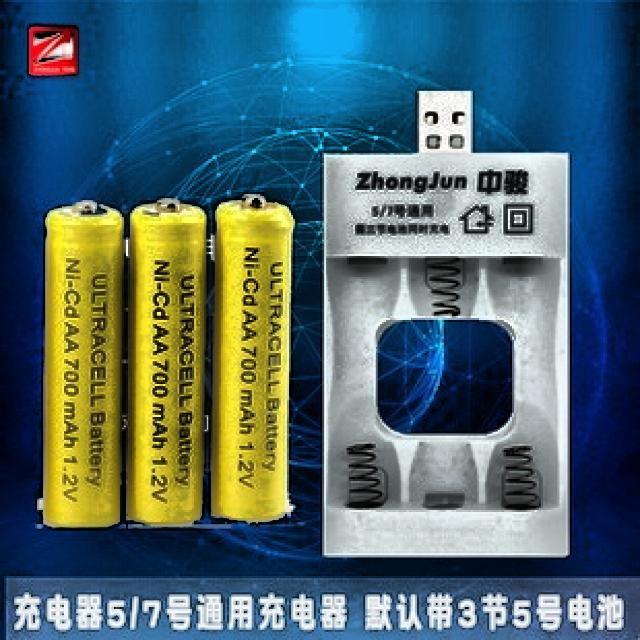Non-Valuable Waste - Batteries: (211, 195, 294, 521), (44, 201, 124, 527), (127, 199, 206, 524)
